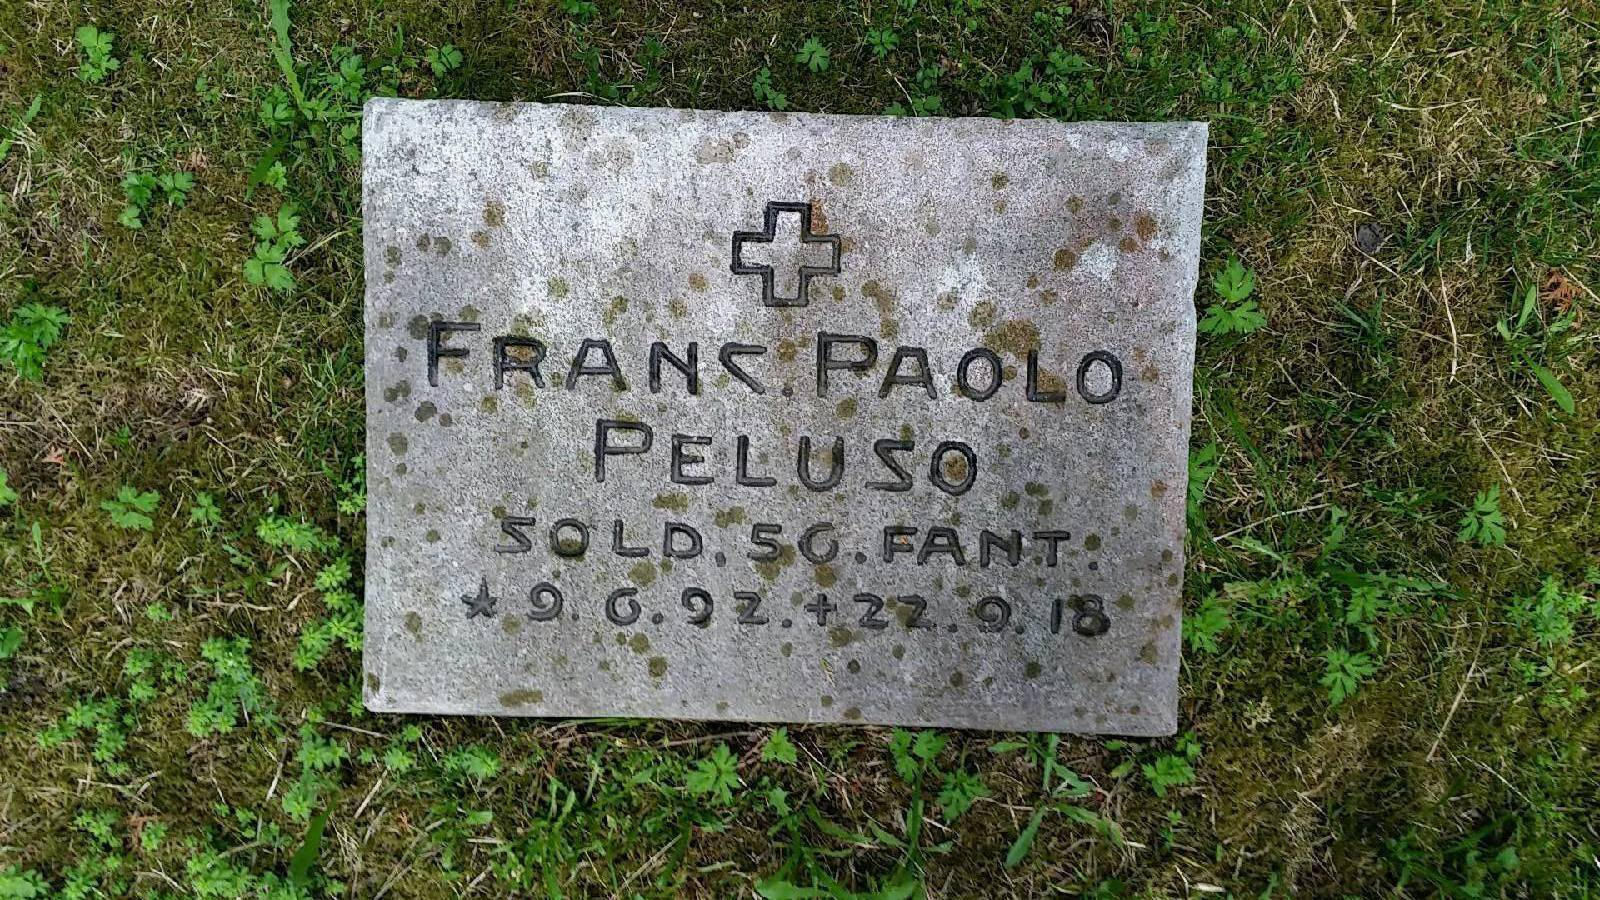flat: (313, 53, 1216, 767)
